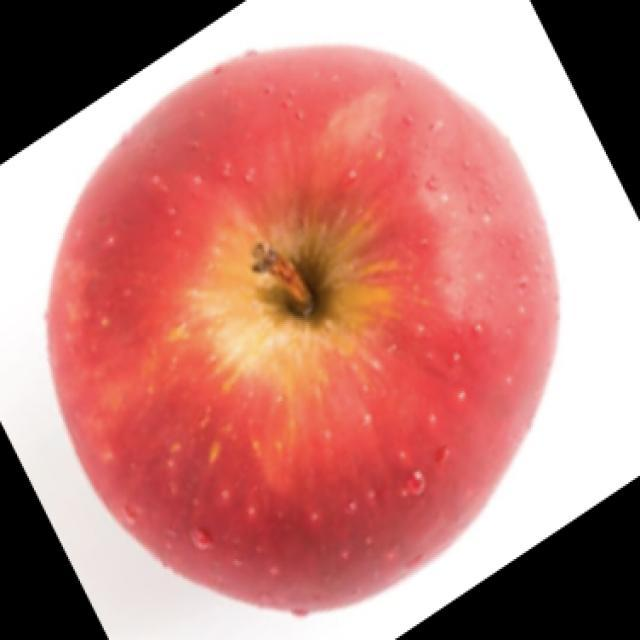Fresh Apple: (41, 43, 567, 616)
